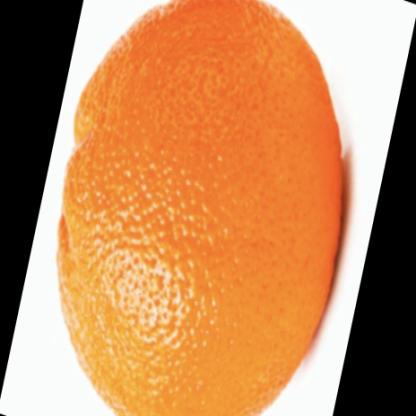fresh: (60, 1, 344, 416)
